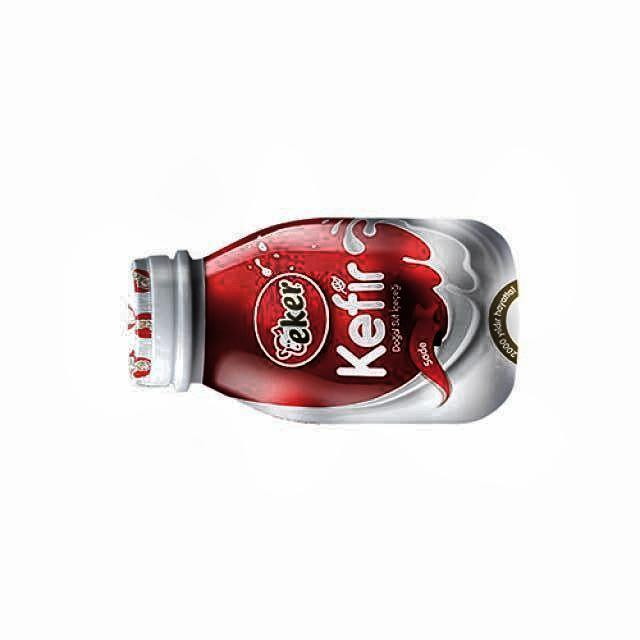plastic: (129, 219, 519, 422)
